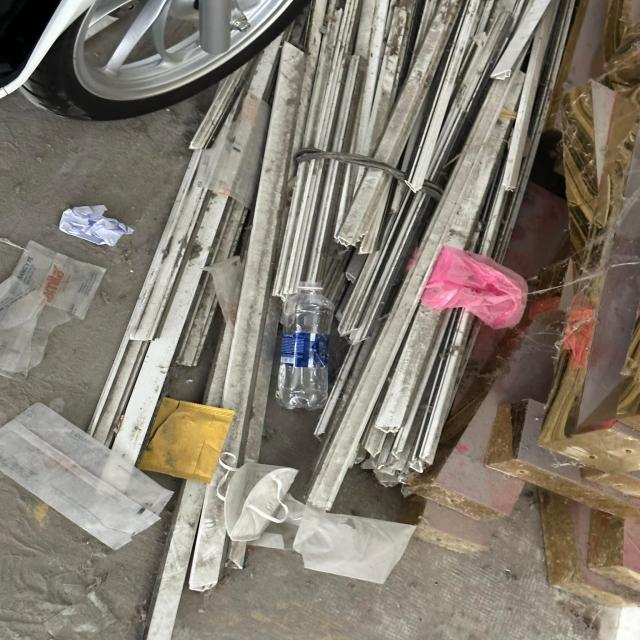bag: (404, 246, 530, 330)
bottle: (278, 281, 336, 412)
mask: (216, 451, 300, 542)
packet: (0, 401, 175, 551), (0, 238, 108, 383), (136, 396, 235, 484)
paper: (58, 203, 136, 247)
